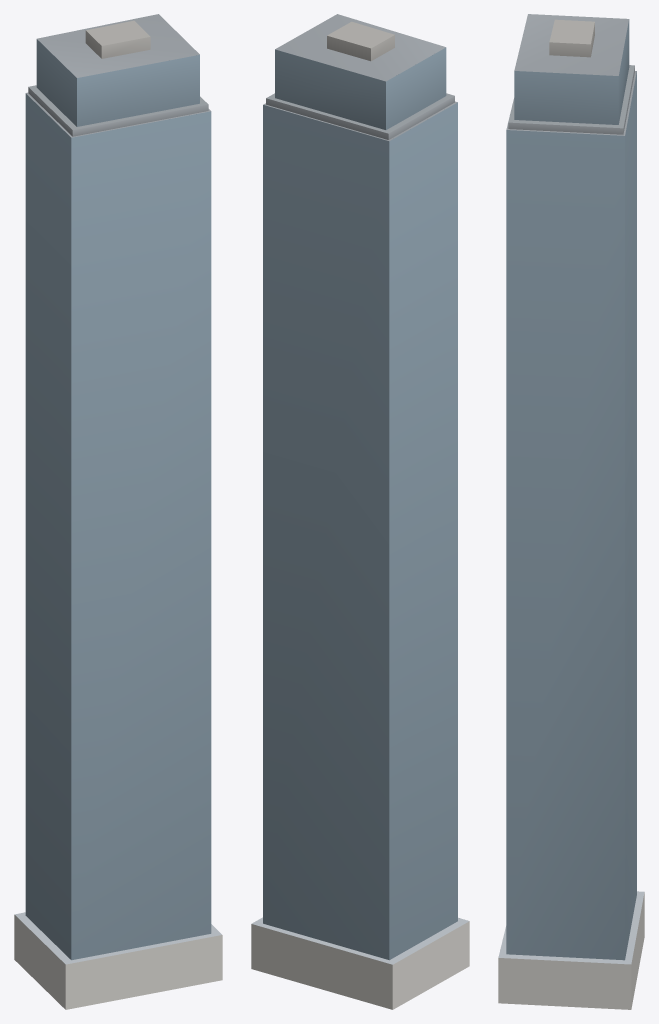
File: tower_09.glb
The picture shows the model from 3 angles, left to right: view 1: azimuth 30°, elevation 25°; view 2: azimuth 150°, elevation 25°; view 3: azimuth 270°, elevation 25°; orthographic projection.
Parts seen in each view (by area): view 1: tower_09; view 2: tower_09; view 3: tower_09.
Boxes of the visible parts, x1,y1,x2,y2 form: tower_09: [14, 14, 222, 1009]; tower_09: [251, 14, 469, 1009]; tower_09: [498, 14, 644, 1009].
Size of the model in its own units: 52.23 by 289 by 40.82.
